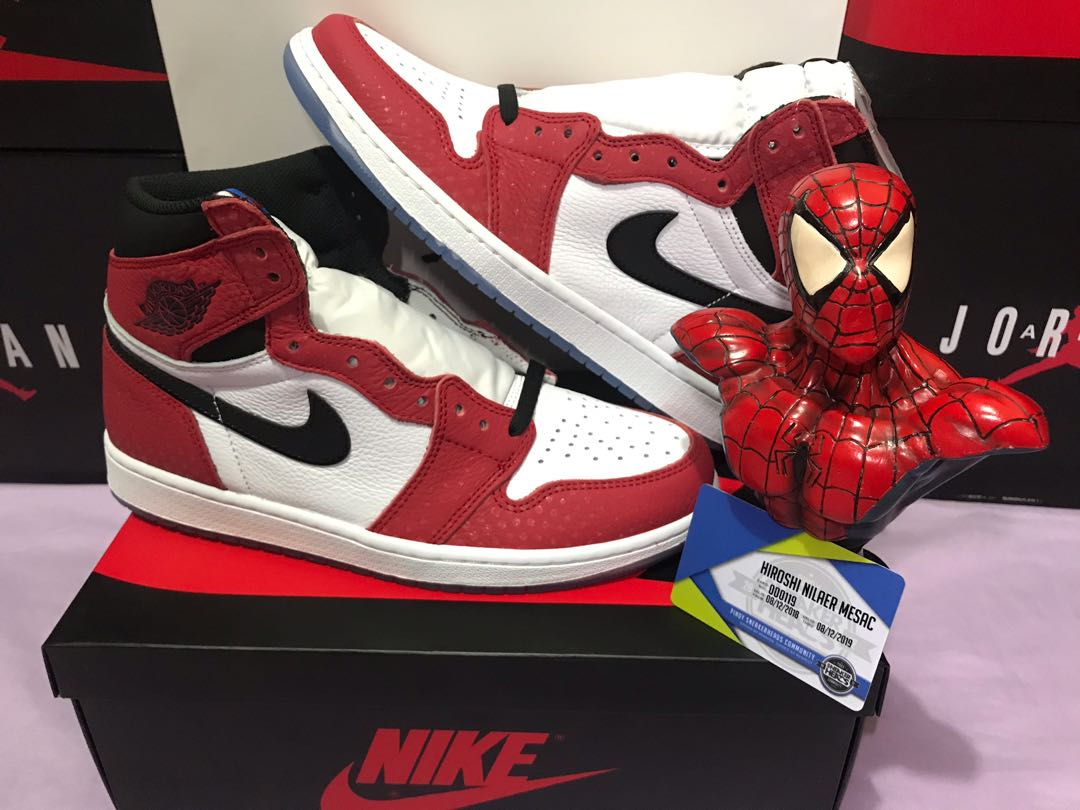Air Jordan 1 Spiderman: (255, 1, 912, 474), (91, 156, 690, 589)
